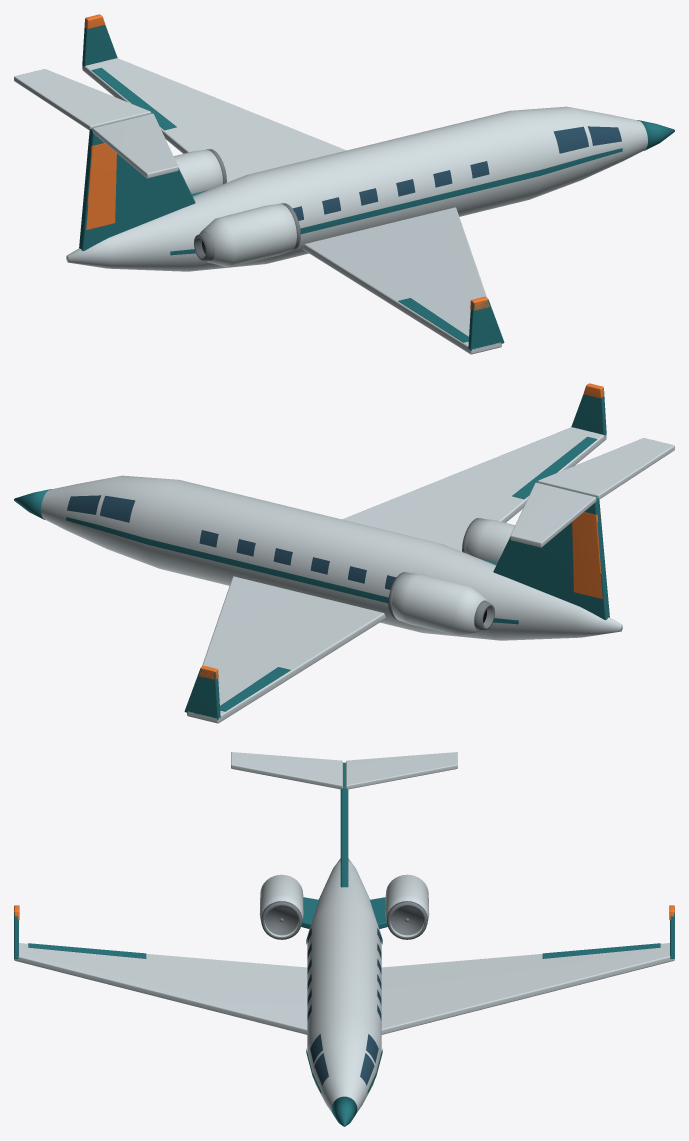
The model's file is business_jet.glb.
The picture shows the model from 3 angles, top to bottom: view 1: azimuth 30°, elevation 25°; view 2: azimuth 150°, elevation 25°; view 3: azimuth 270°, elevation 25°; orthographic projection. The views are drawn at different scales.
Visible parts, largest first — view 1: Fuselage, Wing_left, Wing_right, Vertical stabilizer, Engine nacelle_left, T-tail horizontal stabilizer_right, T-tail horizontal stabilizer_left, Rudder marking, Fuselage stripe_left, Engine nacelle_right, Winglet_left, Winglet_right (+5 smaller); view 2: Fuselage, Wing_right, Wing_left, Vertical stabilizer, Engine nacelle_right, T-tail horizontal stabilizer_left, T-tail horizontal stabilizer_right, Rudder marking, Fuselage stripe_right, Engine nacelle_left, Winglet_right, Winglet_left (+5 smaller); view 3: Fuselage, Wing_left, Wing_right, T-tail horizontal stabilizer_left, T-tail horizontal stabilizer_right, Engine nacelle_left, Engine nacelle_right, Intake rim_left, Intake rim_right, Vertical stabilizer, Aileron marking_left, Aileron marking_right (+1 smaller).
Boxes of the visible parts, x1,y1,x2,y2 form: Fuselage: [66, 106, 647, 271]; Wing_left: [302, 207, 501, 354]; Wing_right: [82, 58, 346, 182]; Vertical stabilizer: [79, 114, 195, 250]; Engine nacelle_left: [200, 204, 296, 267]; T-tail horizontal stabilizer_right: [14, 69, 151, 130]; T-tail horizontal stabilizer_left: [92, 113, 178, 178]; Rudder marking: [86, 143, 116, 229]; Fuselage stripe_left: [170, 148, 622, 255]; Engine nacelle_right: [174, 149, 222, 193]; Winglet_left: [468, 300, 504, 350]; Winglet_right: [82, 19, 117, 67]; Fuselage: [41, 475, 622, 640]; Wing_right: [187, 576, 386, 723]; Wing_left: [342, 427, 606, 551]; Vertical stabilizer: [493, 483, 609, 620]; Engine nacelle_right: [392, 573, 488, 636]; T-tail horizontal stabilizer_left: [537, 438, 674, 499]; T-tail horizontal stabilizer_right: [510, 482, 596, 547]; Rudder marking: [572, 512, 602, 598]; Fuselage stripe_right: [66, 517, 518, 624]; Engine nacelle_left: [466, 518, 514, 562]; Winglet_right: [184, 669, 220, 719]; Winglet_left: [571, 388, 606, 436]; Fuselage: [307, 858, 381, 1112]; Wing_left: [14, 943, 307, 1034]; Wing_right: [381, 943, 674, 1034]; T-tail horizontal stabilizer_left: [231, 752, 342, 789]; T-tail horizontal stabilizer_right: [346, 752, 457, 789]; Engine nacelle_left: [259, 874, 303, 936]; Engine nacelle_right: [385, 874, 429, 936]; Intake rim_left: [261, 901, 302, 939]; Intake rim_right: [386, 901, 427, 939]; Vertical stabilizer: [340, 762, 348, 887]; Aileron marking_left: [28, 943, 146, 958]; Aileron marking_right: [542, 943, 660, 958].
Size of the model in its own units: 14.41 by 4.07 by 16.
